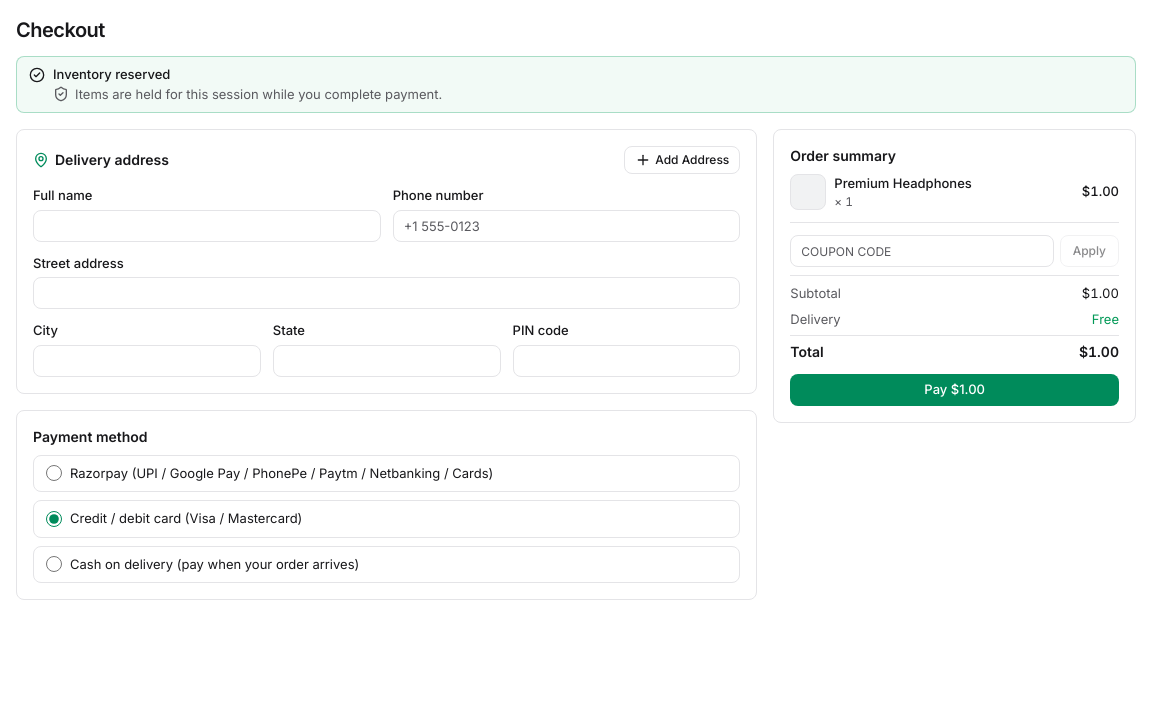
Scenario: CheckoutPage Browser Payment & 3DS SCA State Handling › handles REQUIRES_ACTION with 3D Secure modal and authorizes successfully
The width and height of the screenshot is (1152, 720).
Check: the text "Premium Headphones" is shown, box [834,175,972,191]
In the field labelled "Full name": (207,226) [33,210,381,242], type "Jane Doe"
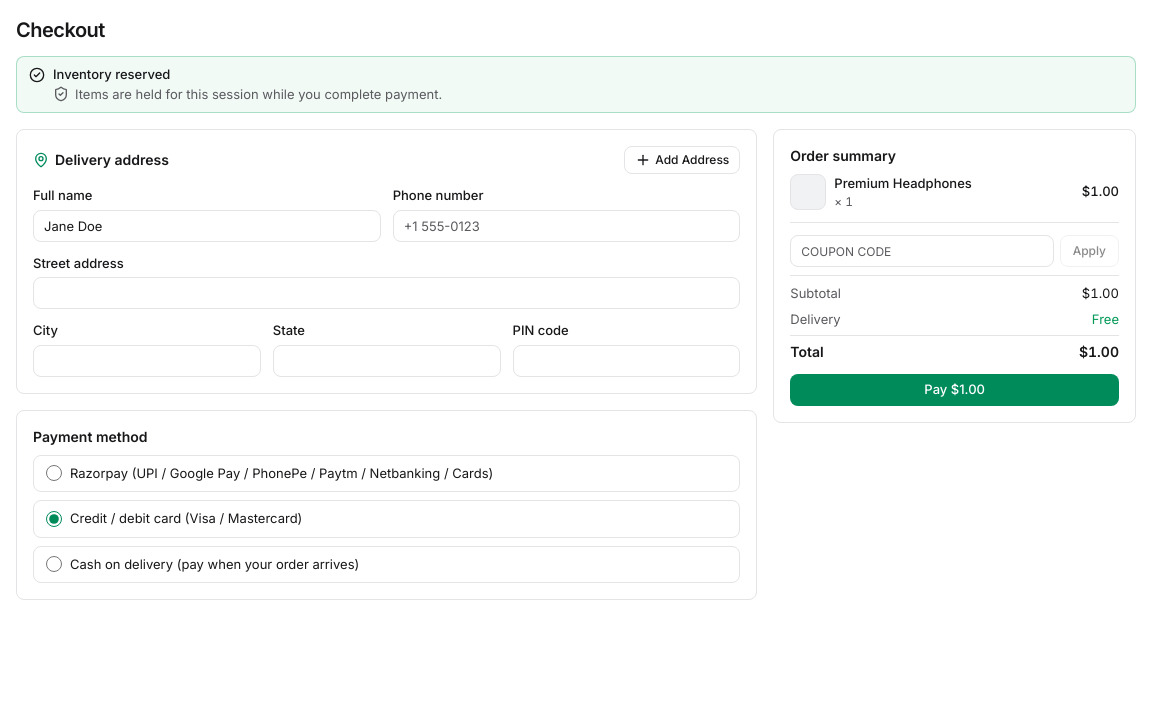
In the field labelled "Street address": (387,293) [33,277,740,309], type "123 Market St"
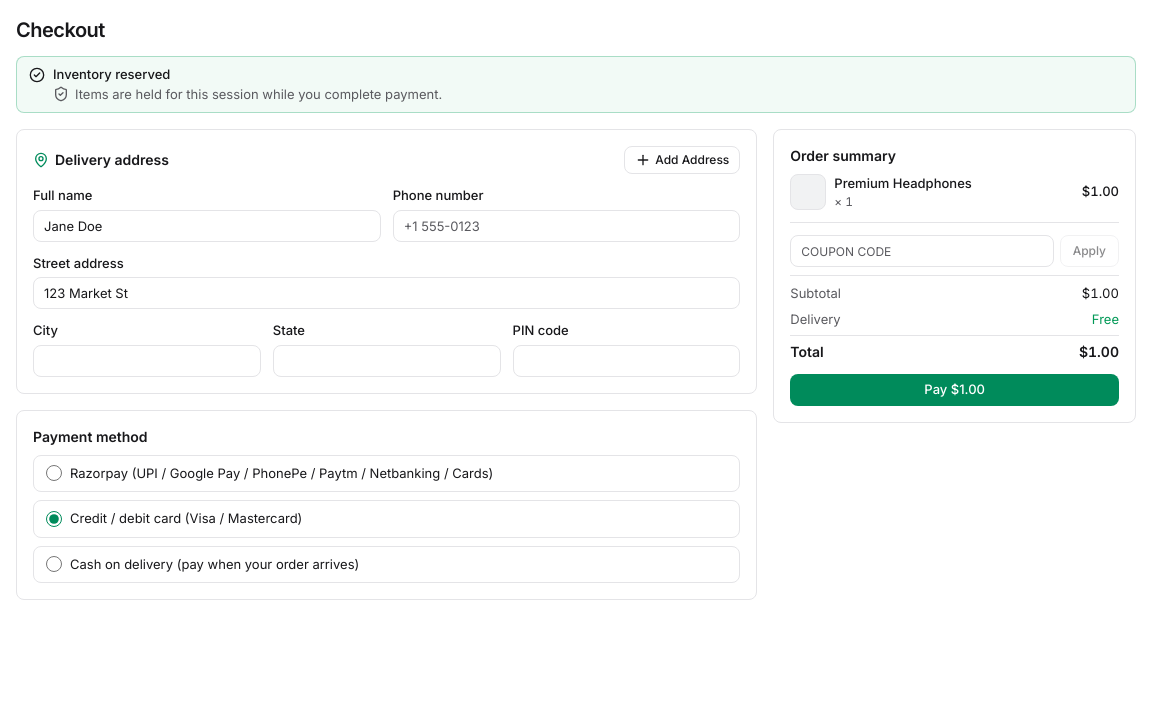
In the field labelled "City": (147,360) [33,344,261,376], type "San Francisco"
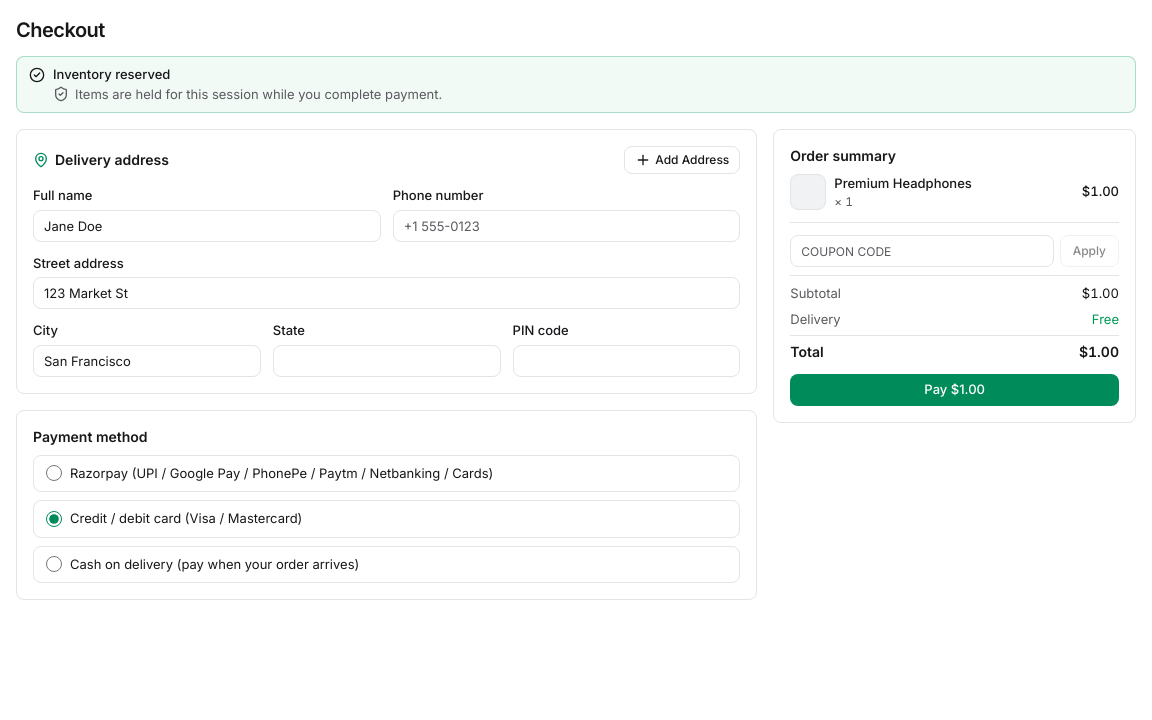
In the field labelled "PIN code": (626,360) [512,344,740,376], type "94105"
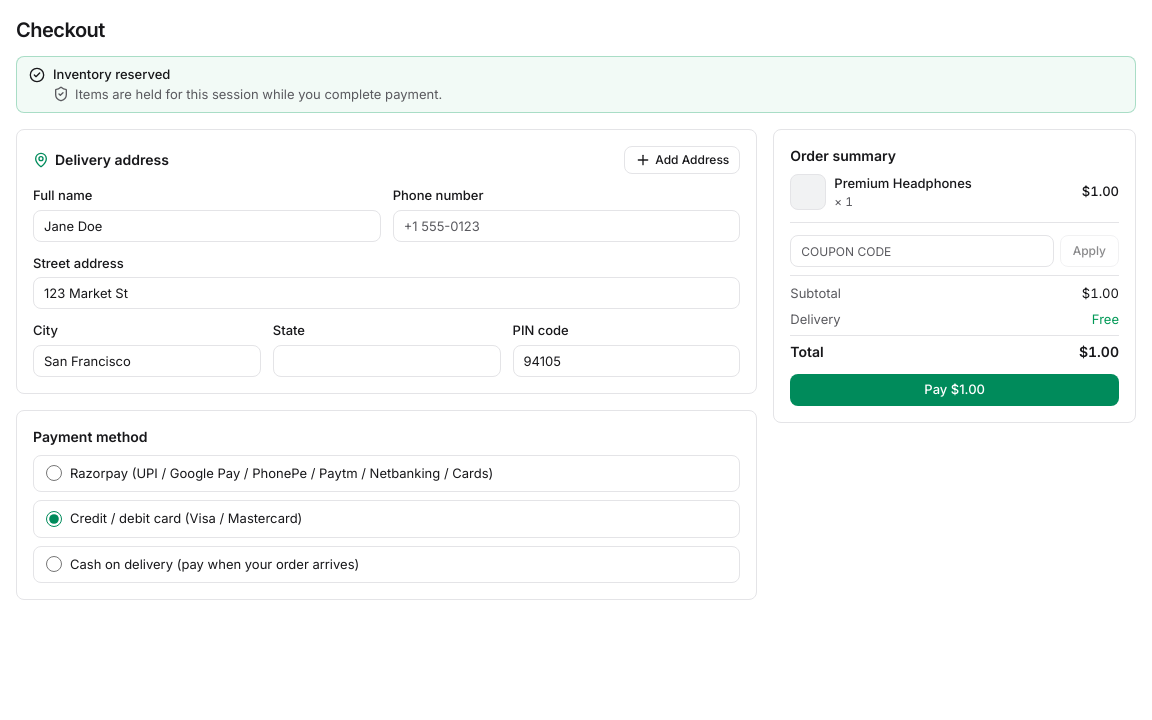
Submit the form named "Pay"
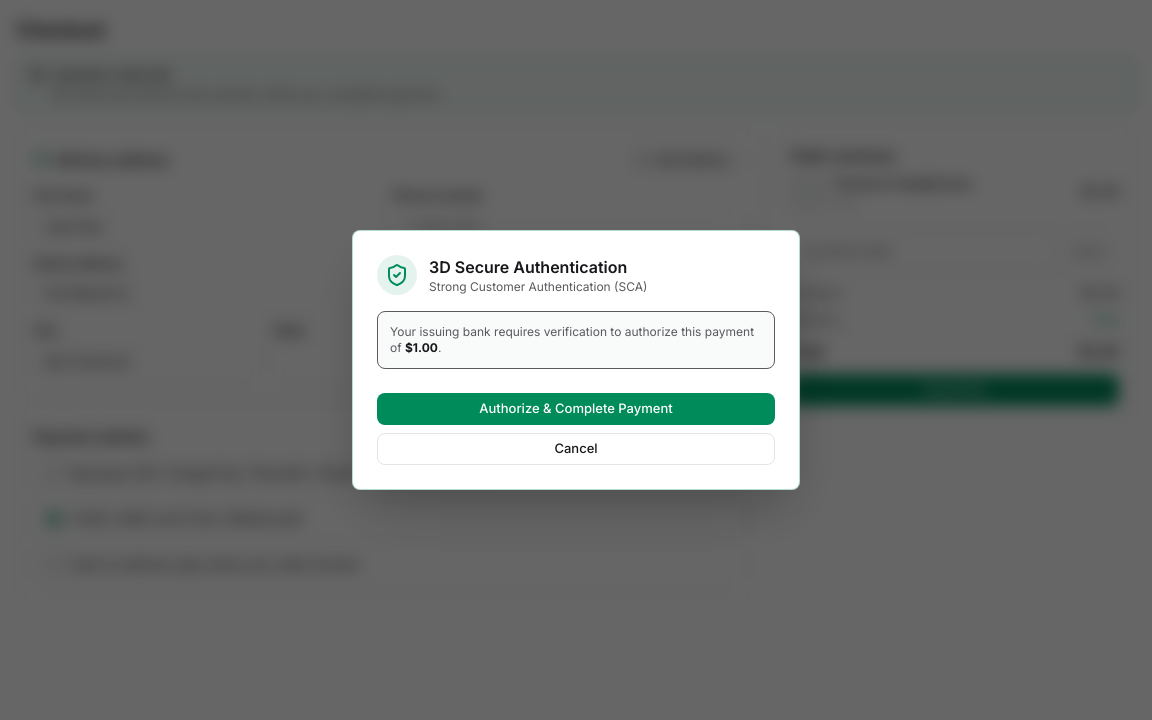
Check: the heading "3D Secure Authentication" is shown, box [429,255,647,279]
Check: the text "Strong Customer Authentication (SCA)" is shown, box [429,279,647,295]
// Authorize payment in 3DS challenge modal
Click the button "Authorize & Complete Payment": (576,409) [377,393,775,425]
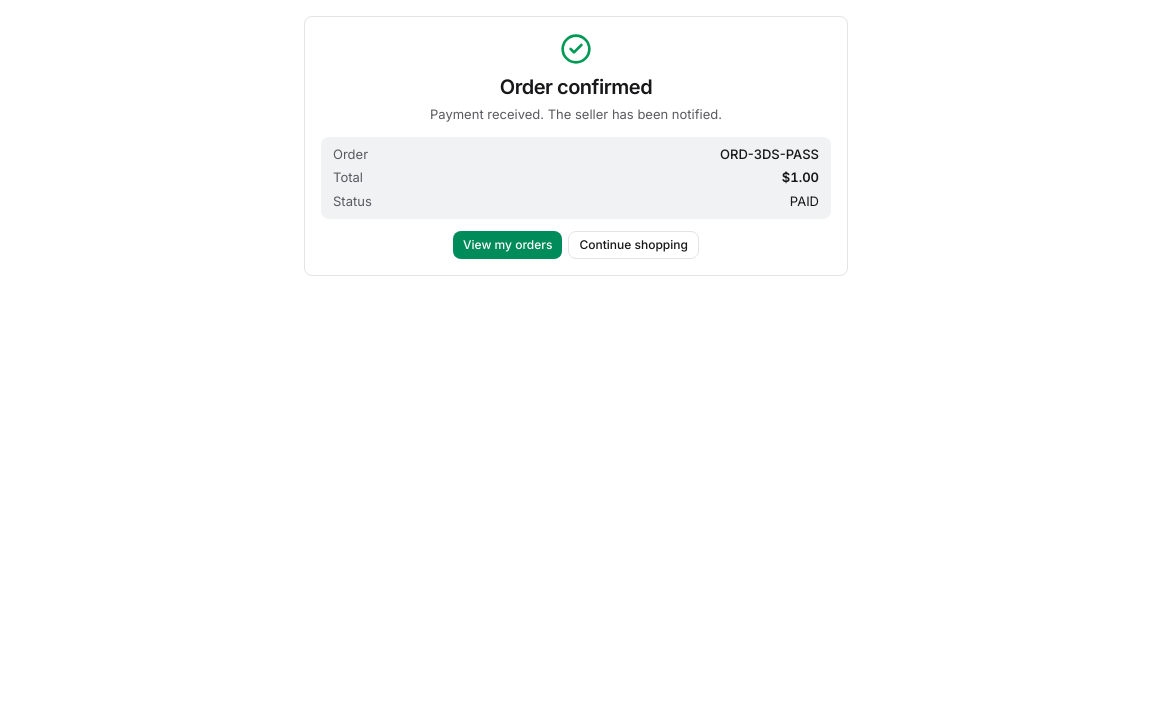
Check: the heading "Order confirmed" is shown, box [500,75,652,99]
Check: the text "ORD-3DS-PASS" is shown, box [720,144,819,164]
